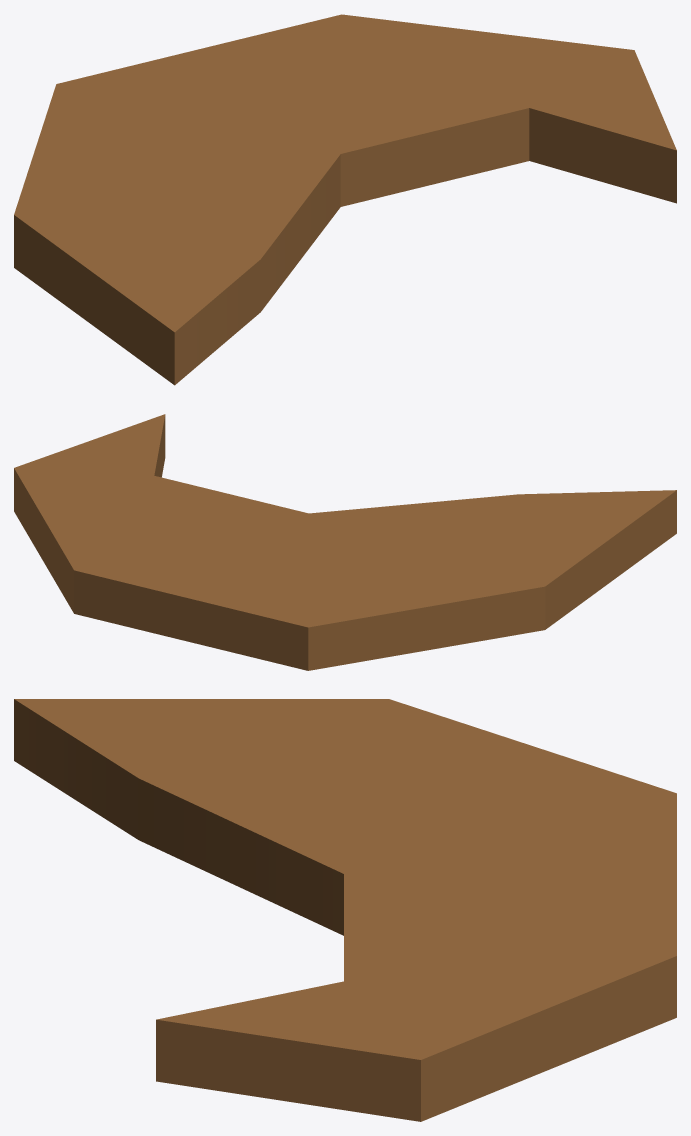
Rendered from x_proval_00_242_1_rmstrd.fbx.
The picture shows the model from 3 angles, top to bottom: view 1: azimuth 30°, elevation 25°; view 2: azimuth 150°, elevation 25°; view 3: azimuth 270°, elevation 25°; orthographic projection. The views are drawn at different scales.
Parts seen in each view (by area): view 1: x_proval_00_242_1_rmstrd1; view 2: x_proval_00_242_1_rmstrd1; view 3: x_proval_00_242_1_rmstrd1.
Boxes of the visible parts, x1,y1,x2,y2 form: x_proval_00_242_1_rmstrd1: (14,14,676,385); x_proval_00_242_1_rmstrd1: (14,414,676,670); x_proval_00_242_1_rmstrd1: (14,699,676,1121).
Size of the model in its own units: 2.5 by 0.2 by 1.94.
